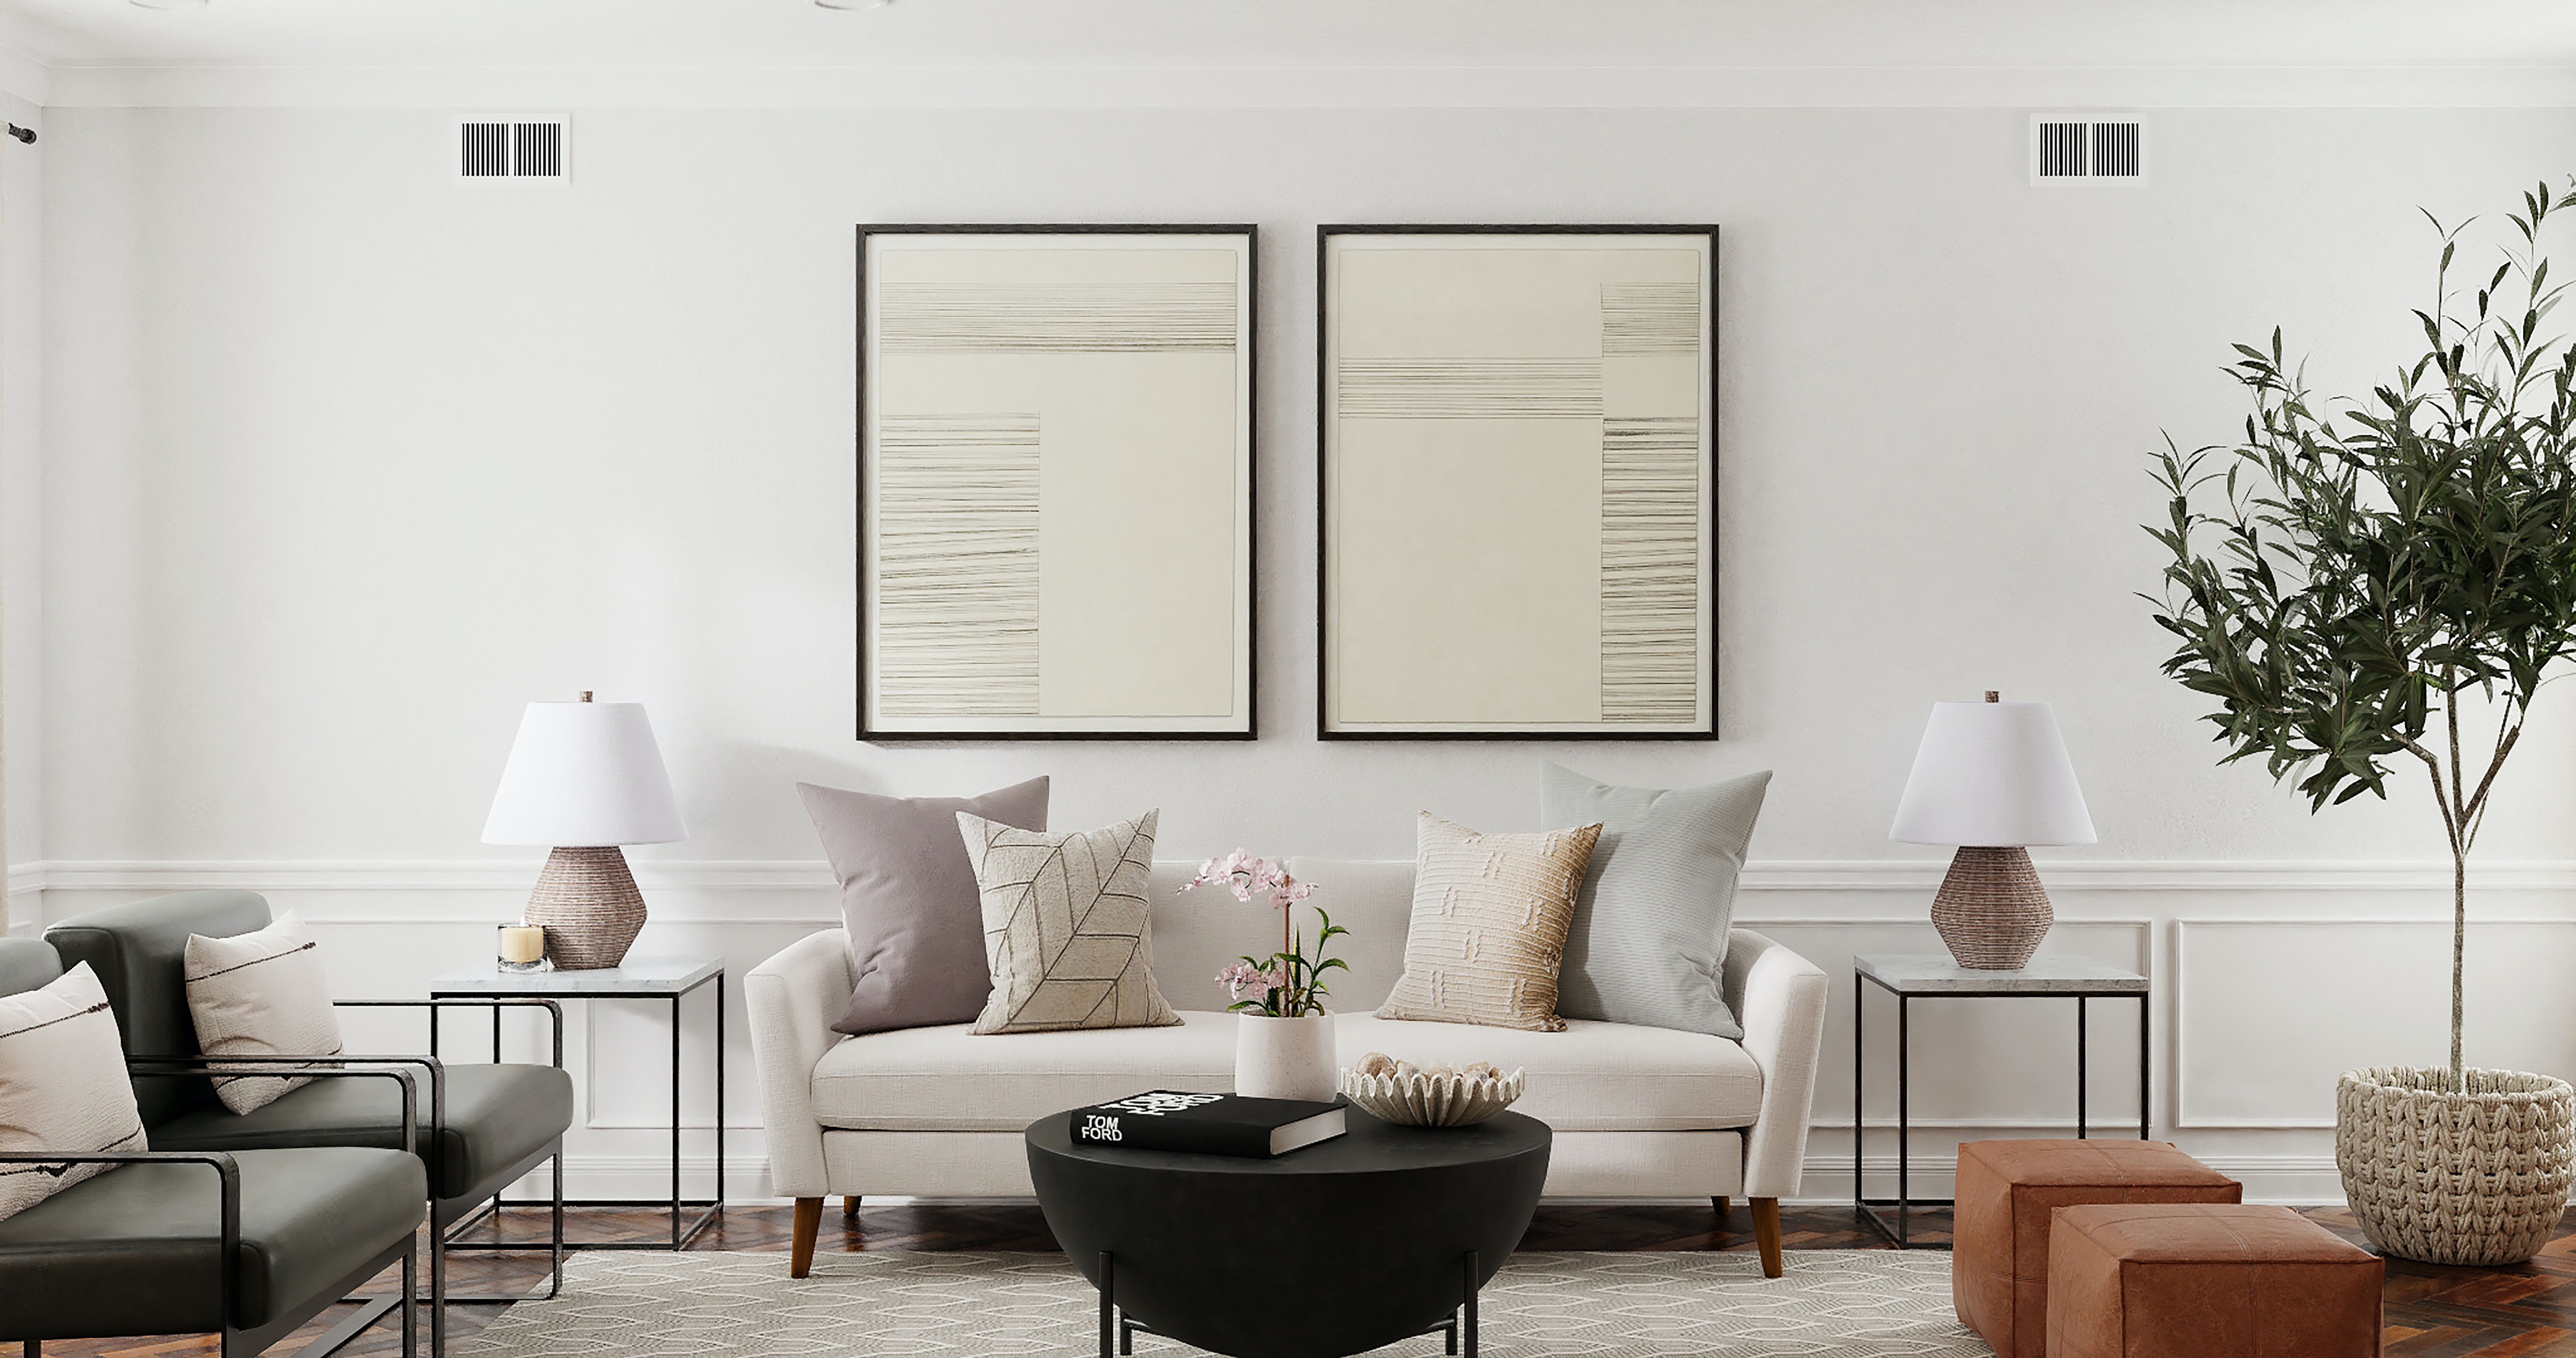Chair: (0, 870, 576, 1358)
Painting: (1304, 207, 1736, 746), (840, 213, 1269, 750)
Sofa: (744, 788, 1820, 1286)
Table: (1007, 1088, 1565, 1334)
